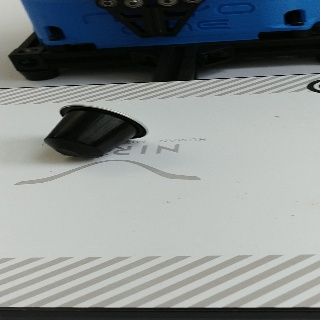capsule_10: (43, 103, 150, 158)
